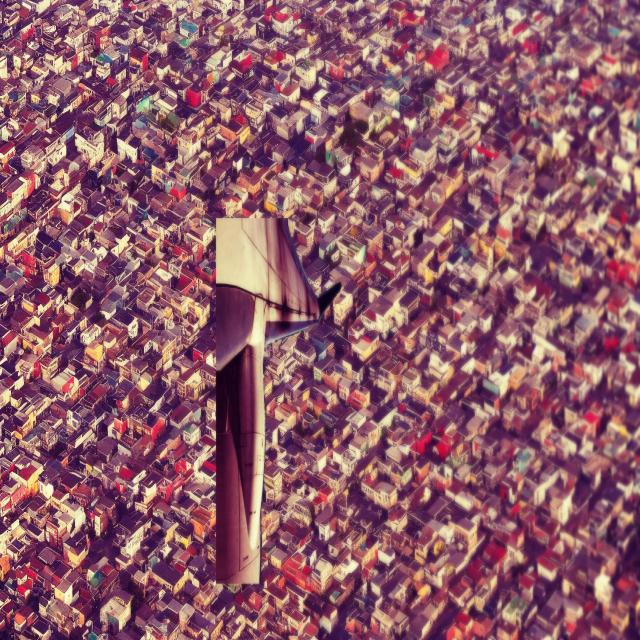airplane: (214, 212, 342, 587)
